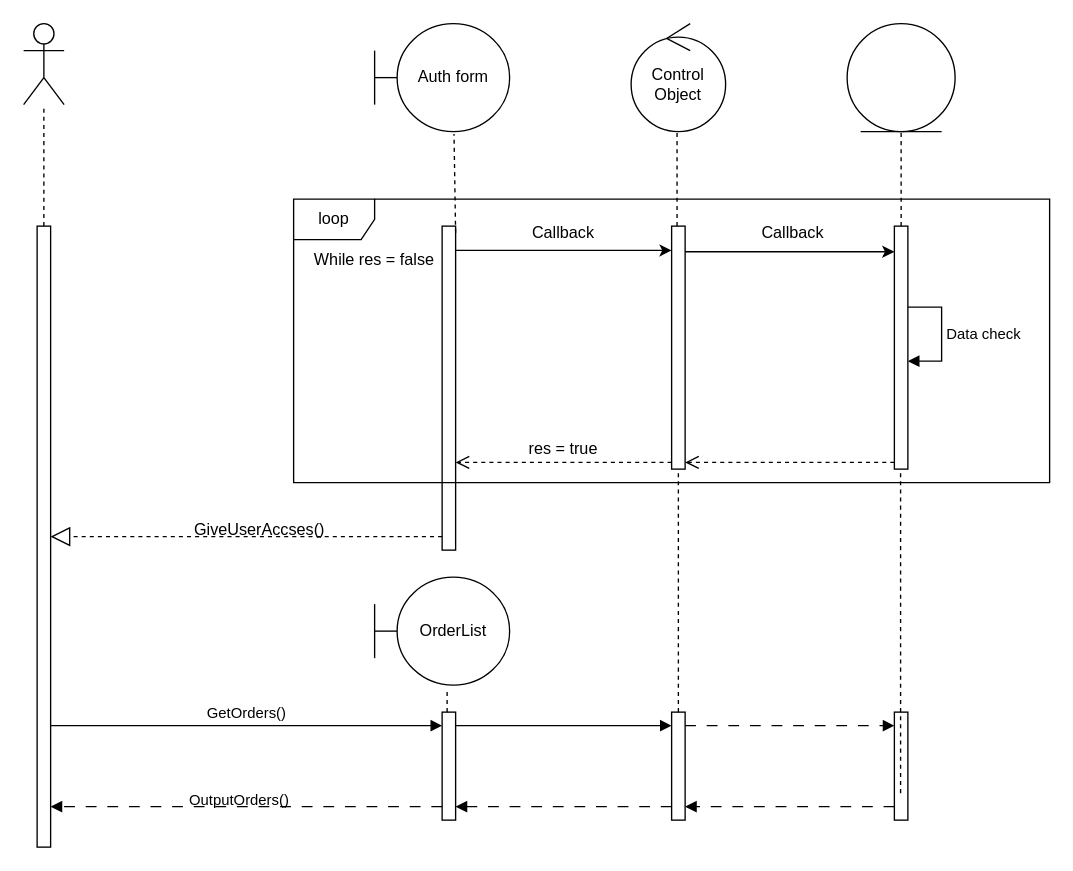
Some shapes in this 1073 by 871 pixel diagram are drawn without their labels. Here are the shapes that lost their labels. From the top down, the box of each, then its label:
(22, 22, 64, 105): User
(846, 22, 955, 132): Data base
